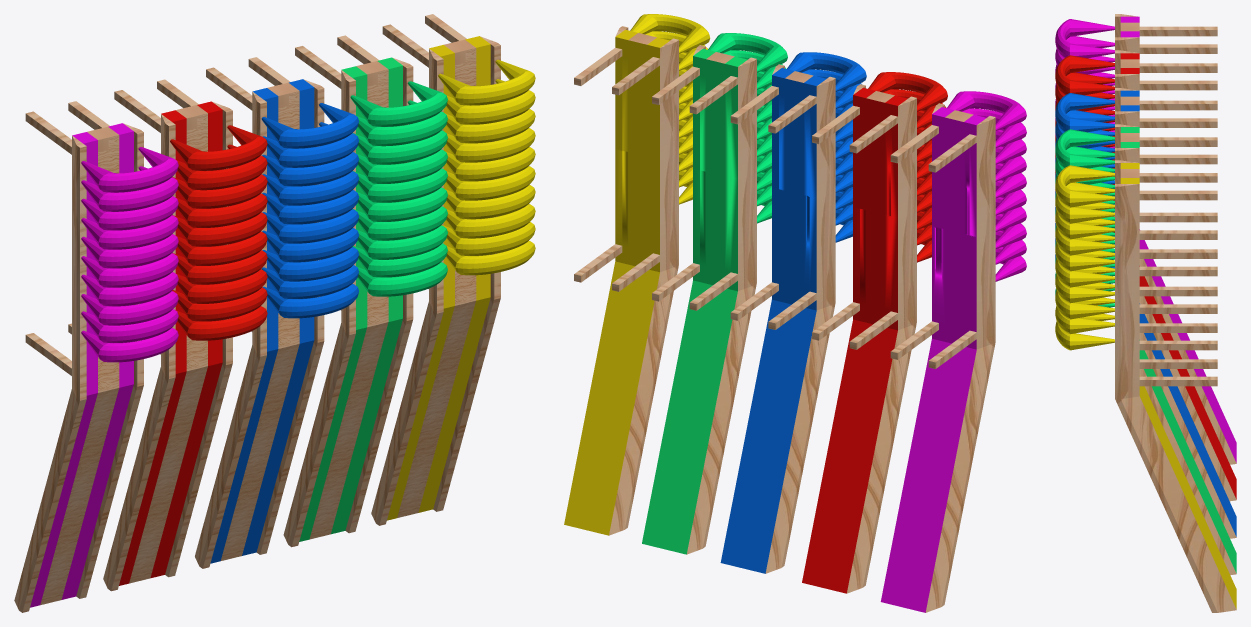
Rendered from unbound-ramp-park-animation-fs22-bmng.fbx.
The picture shows the model from 3 angles, left to right: view 1: azimuth 30°, elevation 25°; view 2: azimuth 150°, elevation 25°; view 3: azimuth 270°, elevation 25°; orthographic projection. The views are drawn at different scales.
Visible parts, largest first — view 1: Material_016-material, Material_012-material, Material_014-material, Material_007-material, Material_010-material, Material-material_3, Material-material_1, Material-material_2, Material-material_0, Material-material, Material_013-material, Material_017-material (+8 smaller); view 2: Material_017-material, Material_013-material, Material_015-material, Material_008-material, Material_011-material, Material-material_3, Material-material_1, Material-material_2, Material-material_0, Material-material, Material_016-material, Material_012-material (+3 smaller); view 3: Material-material, Material_010-material, Material-material_0, Material-material_1, Material-material_2, Material-material_3, Material_007-material, Material_014-material, Material_016-material, Material_011-material, Material_012-material, Material_008-material (+3 smaller).
Part boxes in pixels (x1=…): Material_016-material: x1=81, y1=147, x2=178, y2=362; Material_012-material: x1=261, y1=103, x2=358, y2=318; Material_014-material: x1=170, y1=125, x2=267, y2=340; Material_007-material: x1=350, y1=81, x2=447, y2=296; Material_010-material: x1=438, y1=59, x2=535, y2=275; Material-material_3: x1=14, y1=101, x2=143, y2=612; Material-material_1: x1=195, y1=57, x2=324, y2=568; Material-material_2: x1=103, y1=79, x2=232, y2=591; Material-material_0: x1=283, y1=35, x2=413, y2=547; Material-material: x1=371, y1=14, x2=500, y2=525; Material_013-material: x1=210, y1=79, x2=314, y2=563; Material_017-material: x1=30, y1=123, x2=133, y2=607; Material_017-material: x1=880, y1=107, x2=986, y2=612; Material_013-material: x1=720, y1=68, x2=826, y2=573; Material_015-material: x1=802, y1=87, x2=907, y2=593; Material_008-material: x1=642, y1=48, x2=747, y2=554; Material_011-material: x1=564, y1=29, x2=669, y2=535; Material-material_3: x1=890, y1=103, x2=995, y2=612; Material-material_1: x1=730, y1=64, x2=835, y2=573; Material-material_2: x1=812, y1=84, x2=916, y2=593; Material-material_0: x1=652, y1=45, x2=756, y2=554; Material-material: x1=574, y1=26, x2=678, y2=535; Material_016-material: x1=947, y1=91, x2=1026, y2=281; Material_012-material: x1=787, y1=52, x2=866, y2=242; Material-material: x1=1115, y1=160, x2=1236, y2=612; Material_010-material: x1=1055, y1=165, x2=1114, y2=350; Material-material_0: x1=1115, y1=124, x2=1236, y2=575; Material-material_1: x1=1115, y1=88, x2=1236, y2=538; Material-material_2: x1=1115, y1=50, x2=1236, y2=501; Material-material_3: x1=1115, y1=14, x2=1236, y2=464; Material_007-material: x1=1055, y1=129, x2=1114, y2=307; Material_014-material: x1=1055, y1=55, x2=1114, y2=232; Material_016-material: x1=1055, y1=19, x2=1114, y2=164; Material_011-material: x1=1120, y1=163, x2=1236, y2=609; Material_012-material: x1=1055, y1=93, x2=1114, y2=268; Material_008-material: x1=1120, y1=127, x2=1236, y2=573.
Size of the model in its own units: 3612 by 4006 by 1546.
16 materials, 6 textured.
